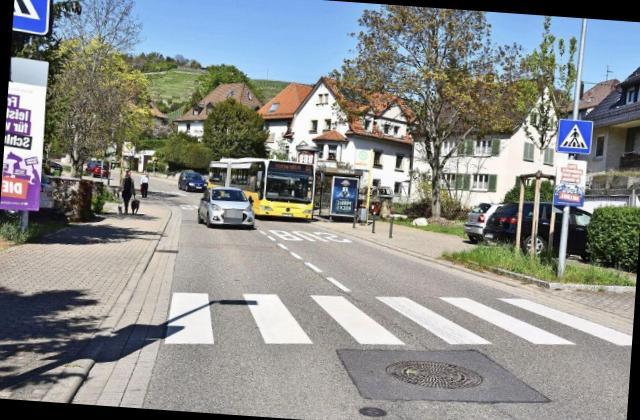crosswalk-sign: (557, 118, 595, 155)
